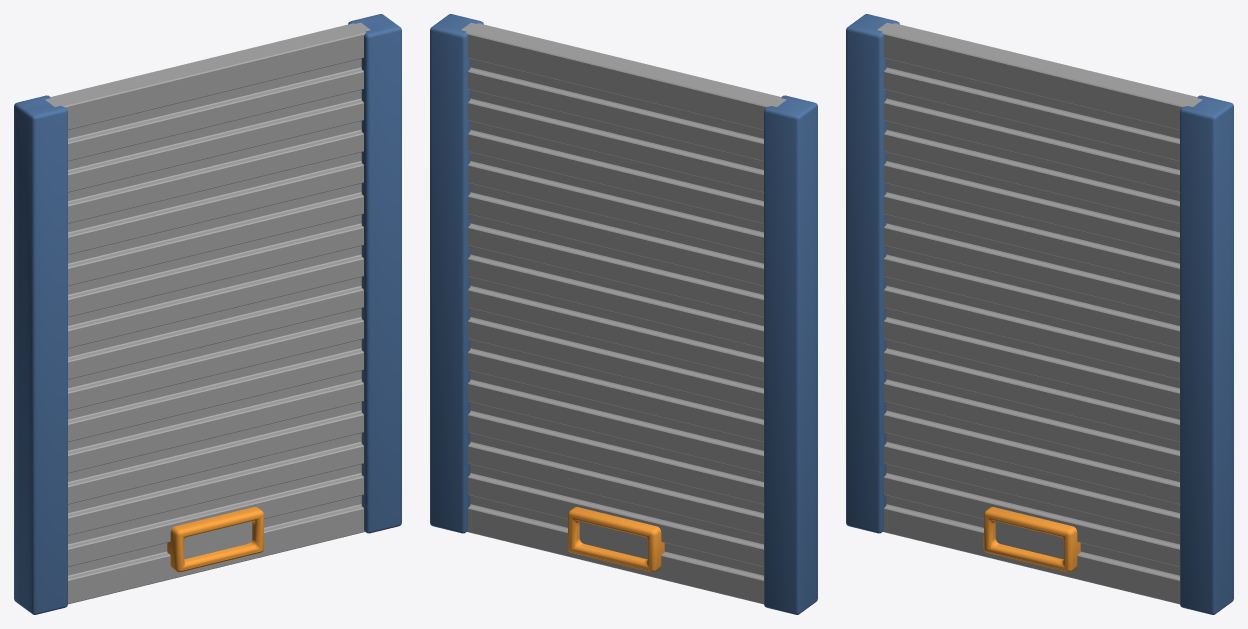
File: Shatter.fbx
3 views of the same model, side by side, from view 1: azimuth 30°, elevation 25°; view 2: azimuth 150°, elevation 25°; view 3: azimuth 330°, elevation 25° (orthographic).
Visible parts, largest first — view 1: 立方体, 立方体.002; view 2: 立方体, 立方体.002; view 3: 立方体, 立方体.002.
Boxes of the visible parts, x1,y1,x2,y2 form: 立方体: (45, 22, 370, 604); 立方体.002: (14, 14, 401, 614); 立方体: (461, 22, 786, 604); 立方体.002: (430, 14, 817, 614); 立方体: (877, 22, 1202, 604); 立方体.002: (846, 14, 1233, 614).
Bounding box in the file's own units: 620 × 800 × 79.1.
